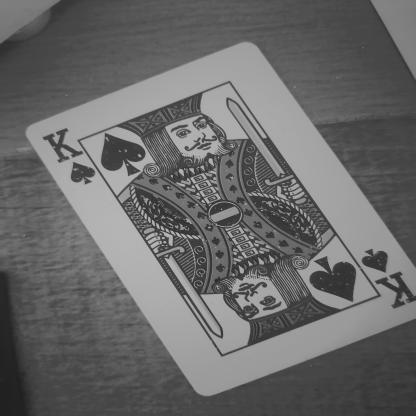KS: (40, 118, 96, 194), (354, 244, 416, 312)
